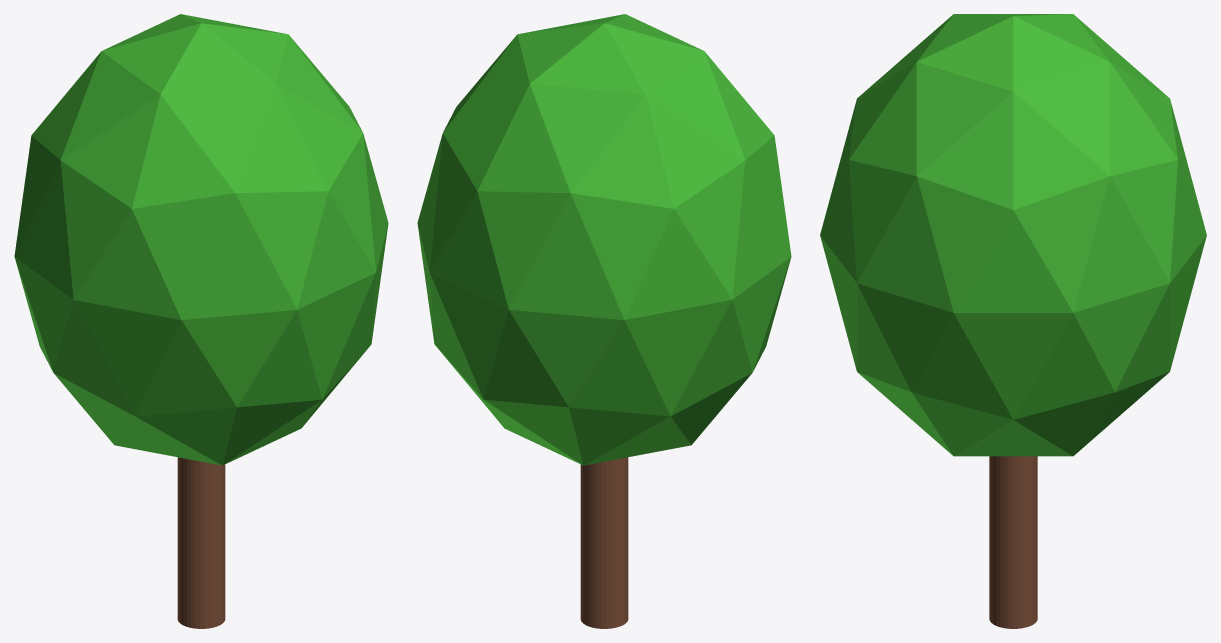
The model's file is tree_poly_without_bed.glb.
3 renders of one model, left to right at view 1: azimuth 30°, elevation 25°; view 2: azimuth 150°, elevation 25°; view 3: azimuth 270°, elevation 25°, orthographic.
Visible parts, largest first — view 1: Icosphere, Cylinder; view 2: Icosphere, Cylinder; view 3: Icosphere, Cylinder.
Part boxes in pixels (x1,y1,x2,y2): Icosphere: [14, 14, 388, 465]; Cylinder: [177, 457, 225, 628]; Icosphere: [417, 14, 791, 465]; Cylinder: [580, 457, 628, 628]; Icosphere: [820, 14, 1206, 456]; Cylinder: [989, 456, 1037, 628].
Size of the model in its own units: 6.09 by 11 by 6.4.
